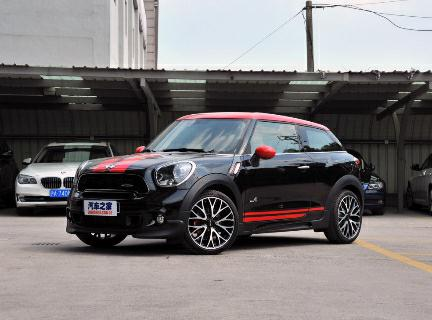MINI-JCWPACEMAN: (59, 113, 376, 254)
